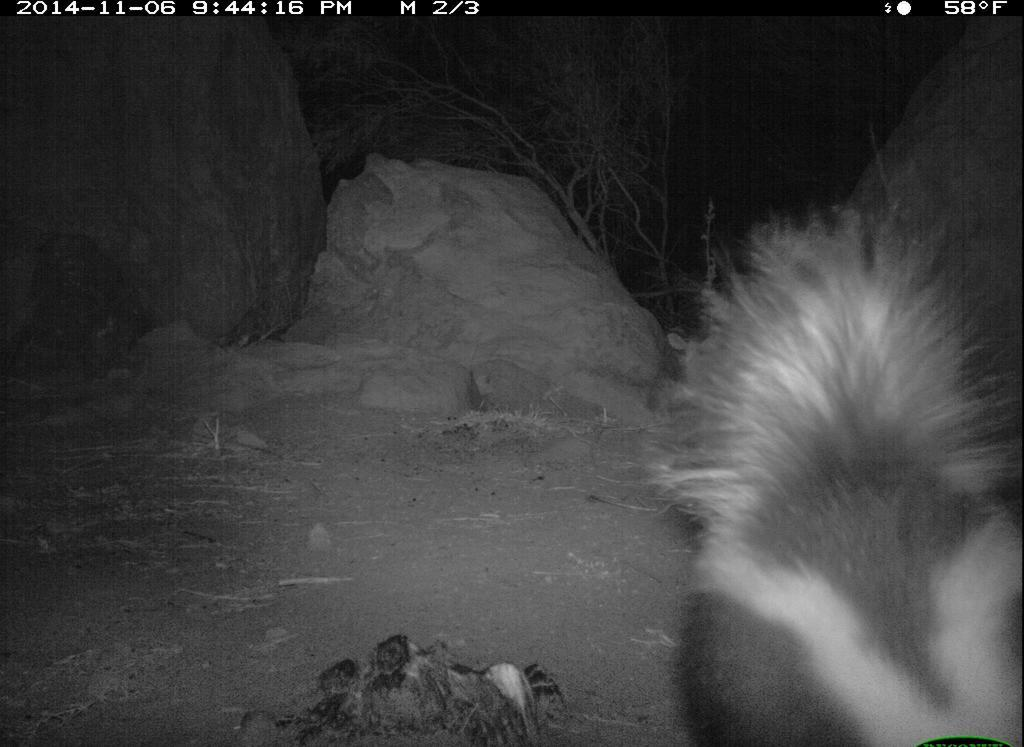skunk: (642, 205, 1023, 744)
